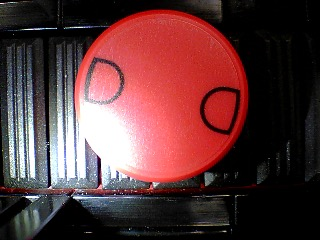MIPO2: (74, 9, 249, 183)
